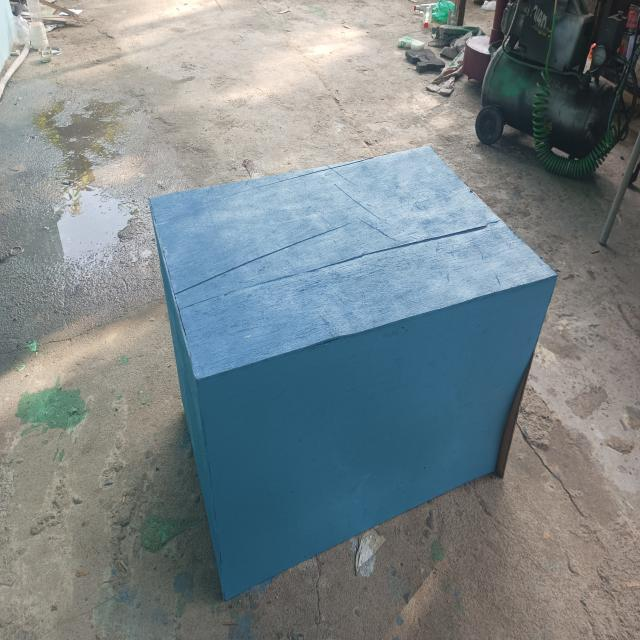blue_box: (148, 145, 548, 591)
